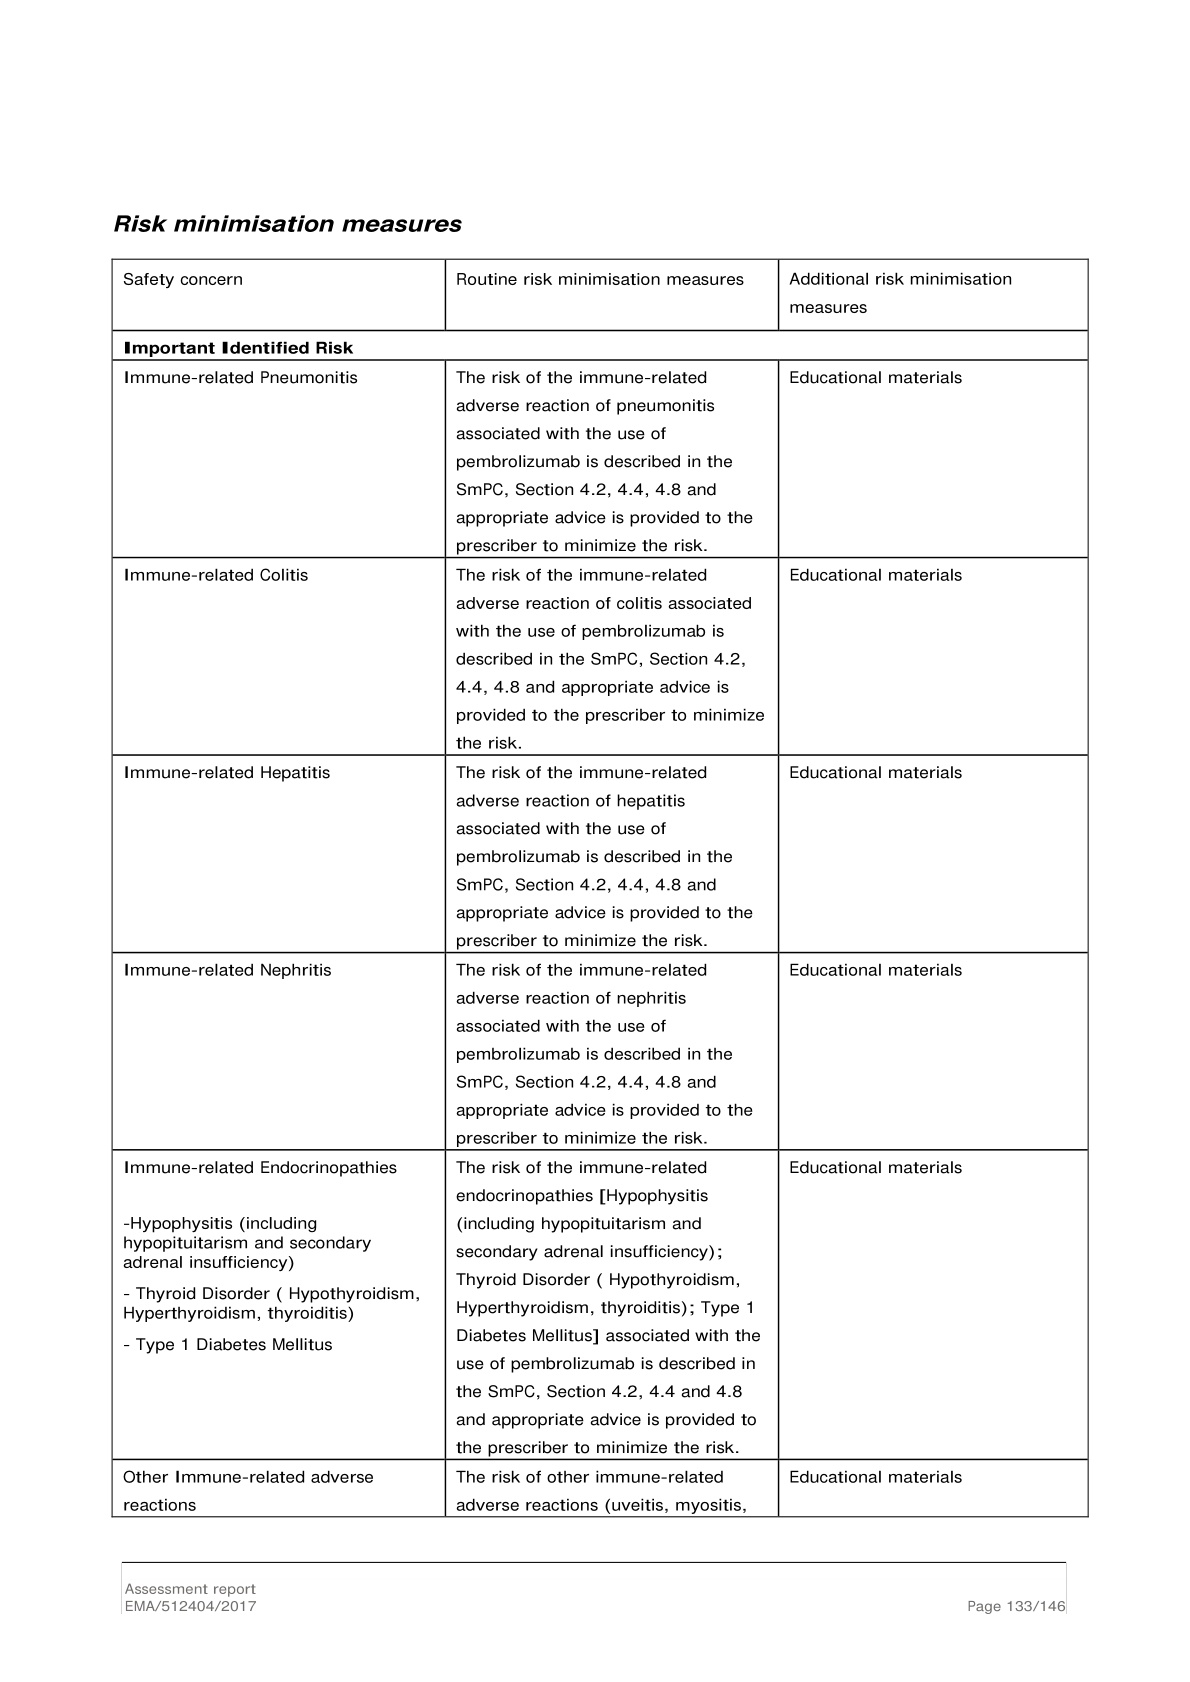merged_cells: (111, 258, 1090, 1518)
